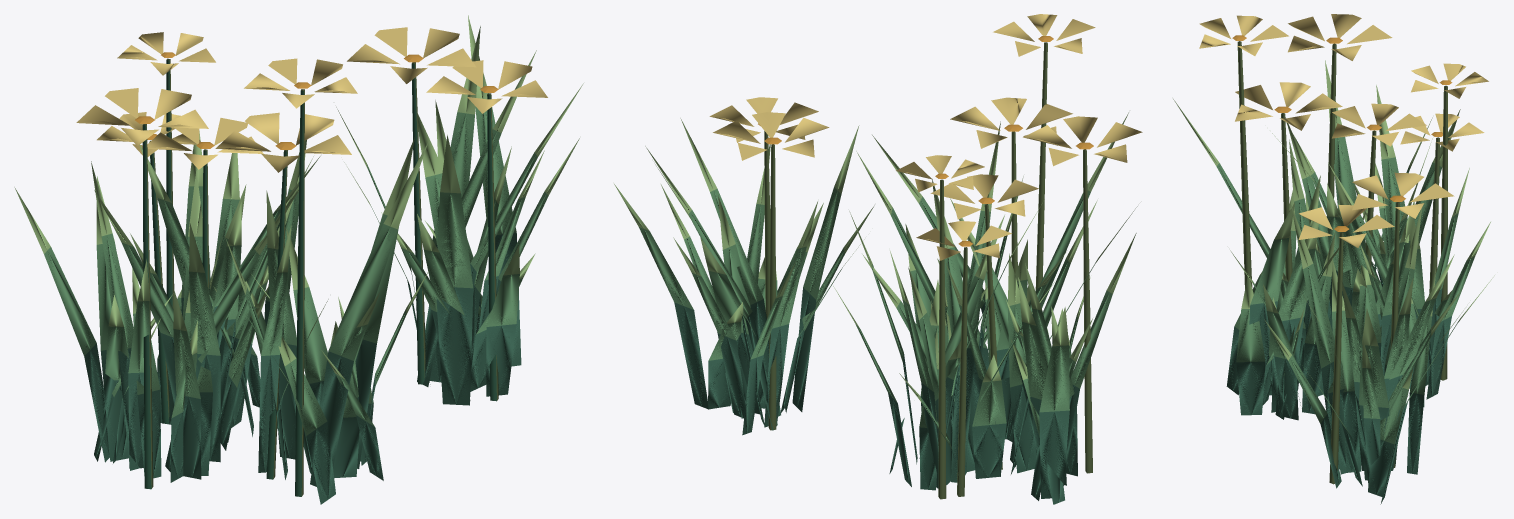
Rendered from Wetland_06_Iris_Yellow.glb.
3 views of the same model, side by side, from view 1: azimuth 30°, elevation 25°; view 2: azimuth 150°, elevation 25°; view 3: azimuth 270°, elevation 25° (orthographic). The views are drawn at different scales.
Parts seen in each view (by area): view 1: Wetland_06_Iris_Yellow; view 2: Wetland_06_Iris_Yellow; view 3: Wetland_06_Iris_Yellow.
Part boxes in pixels (box(x1,y1,x2,y2)): Wetland_06_Iris_Yellow: box(14, 15, 583, 504); Wetland_06_Iris_Yellow: box(614, 14, 1142, 504); Wetland_06_Iris_Yellow: box(1173, 14, 1494, 504).
Size of the model in its own units: 1.43 by 1.13 by 0.9589.
